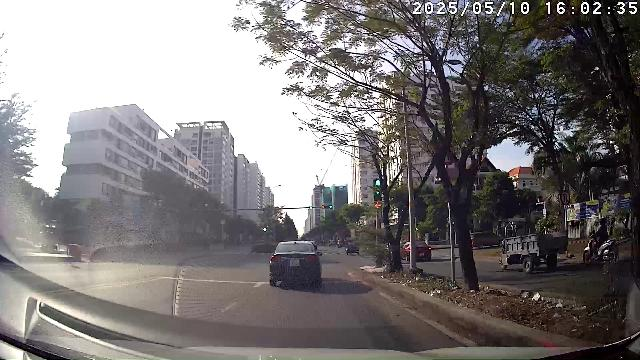124a-cam-quay-dau-xe: (560, 191, 570, 205)
